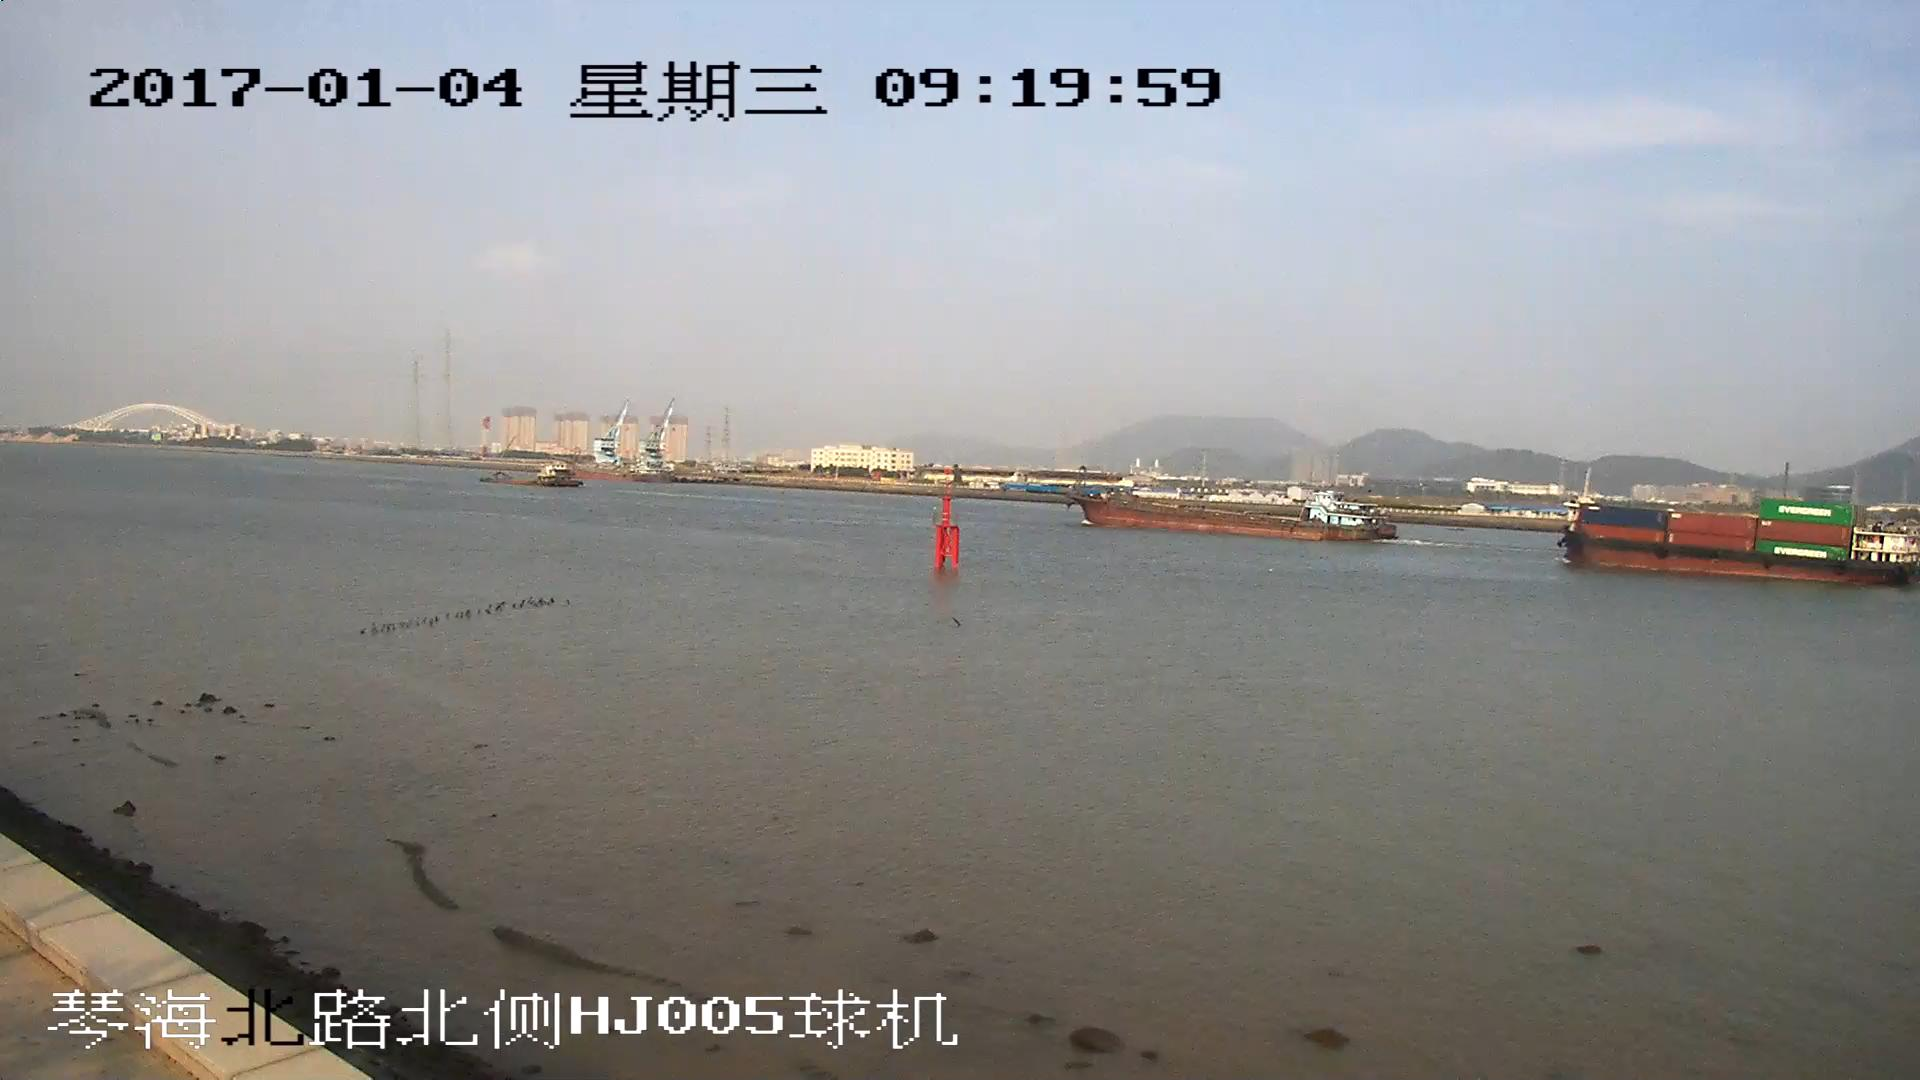bulk cargo carrier: (1070, 465, 1398, 542)
container ship: (1573, 500, 1920, 586)
